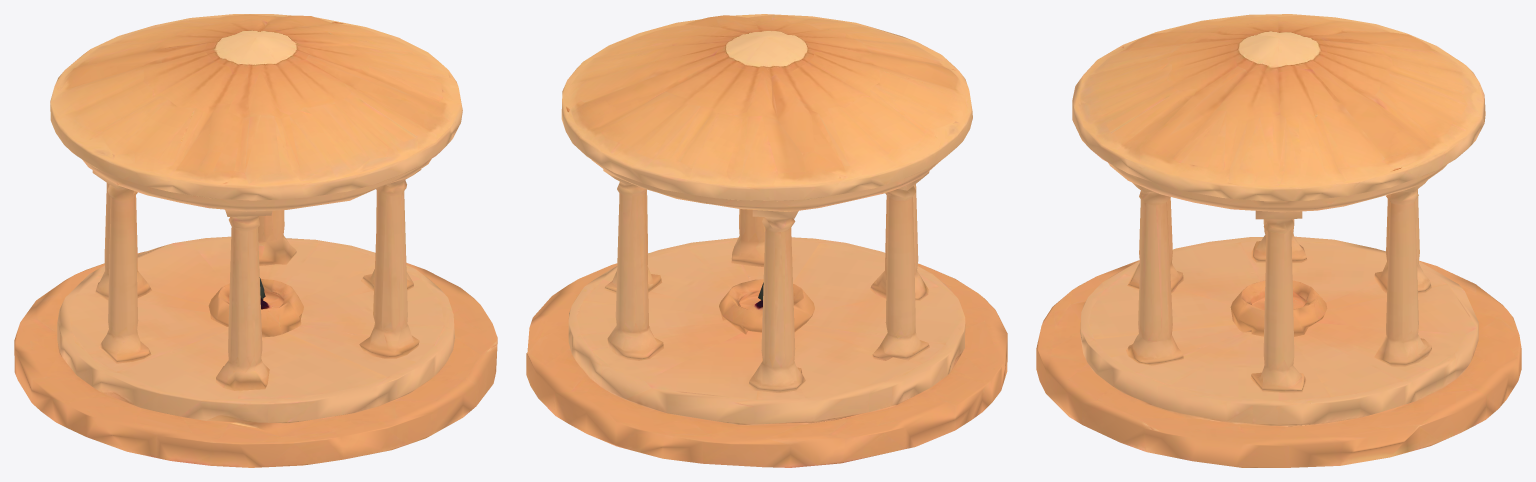
Rendered from temple_desert.glb.
3 renders of one model, left to right at view 1: azimuth 30°, elevation 25°; view 2: azimuth 150°, elevation 25°; view 3: azimuth 270°, elevation 25°, orthographic.
Bounding box in the file's own units: 2 × 1.5 × 2.
Materials: 1 (1 with a texture image).
